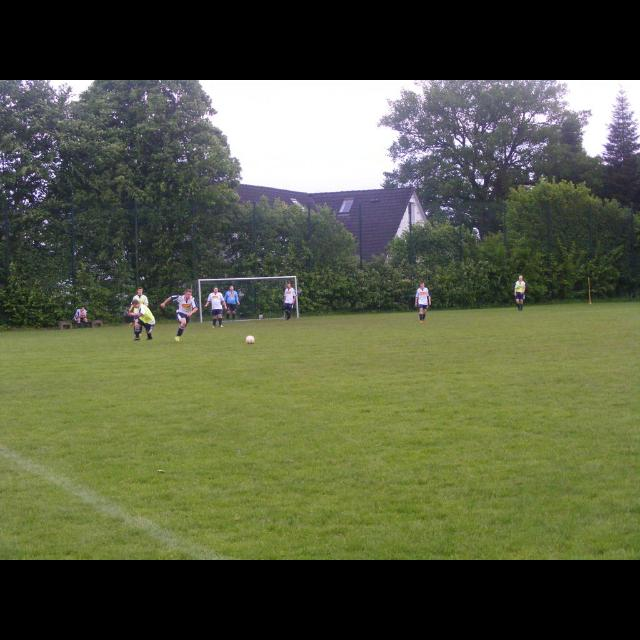Football: (244, 336, 254, 344)
